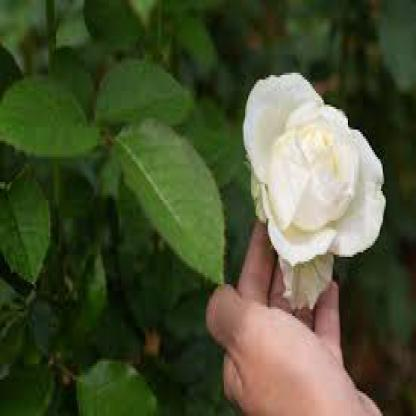Rose-Mawar: (242, 65, 392, 315)
